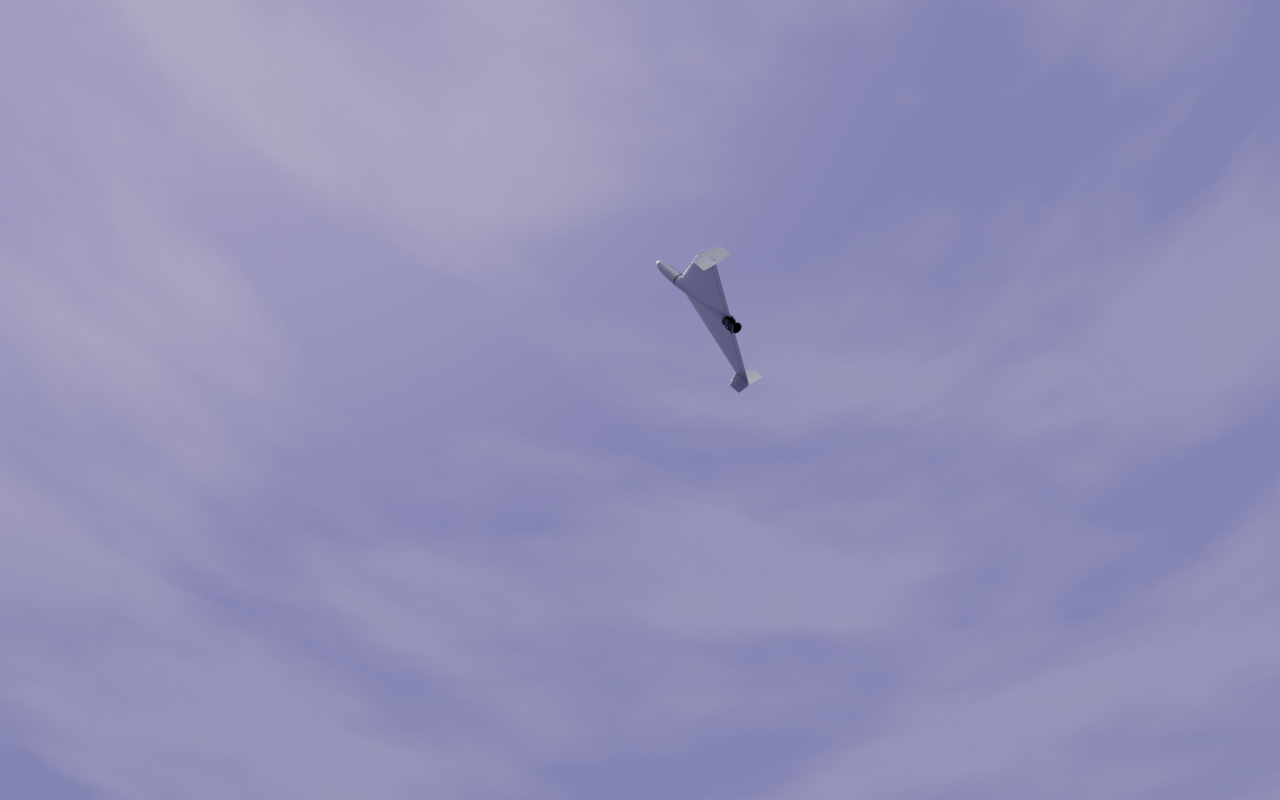shahed: (656, 246, 765, 395)
